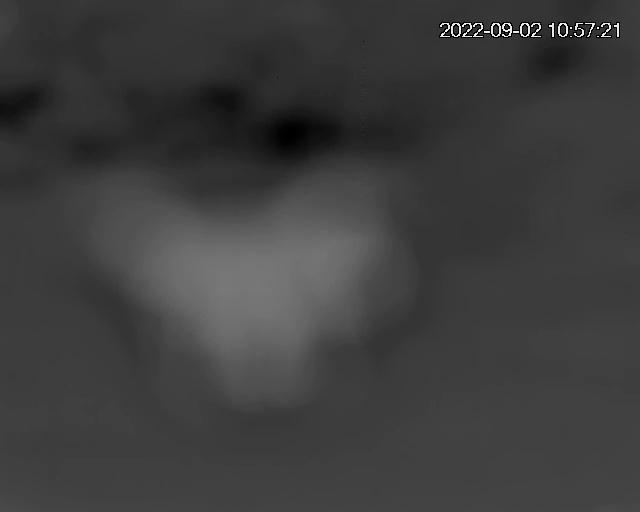DJI-Phantom: (109, 189, 385, 407)
